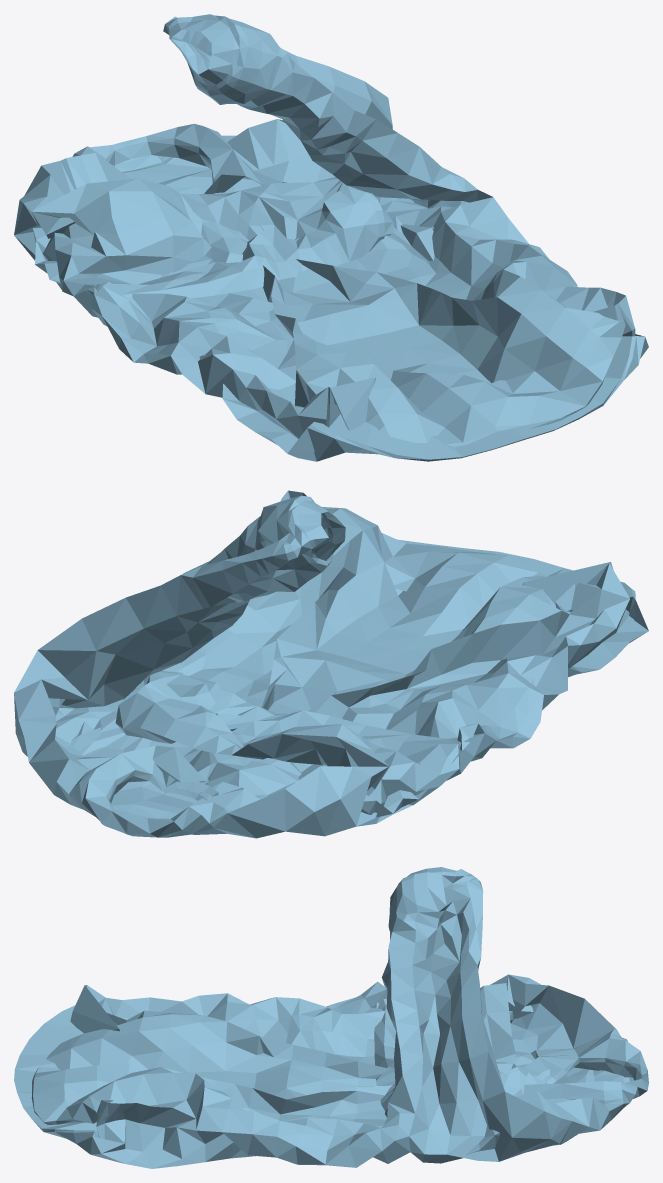
File: frame_17.glb
3 renders of one model, top to bottom at view 1: azimuth 30°, elevation 25°; view 2: azimuth 150°, elevation 25°; view 3: azimuth 270°, elevation 25°, orthographic. The views are drawn at different scales.
Visible parts, largest first — view 1: frame_17.obj; view 2: frame_17.obj; view 3: frame_17.obj.
Part boxes in pixels (x1=…): frame_17.obj: x1=14, y1=14, x2=648, y2=461; frame_17.obj: x1=14, y1=490, x2=648, y2=838; frame_17.obj: x1=14, y1=867, x2=648, y2=1168.
Bounding box in the file's own units: 0.9578 × 0.6284 × 1.6.
